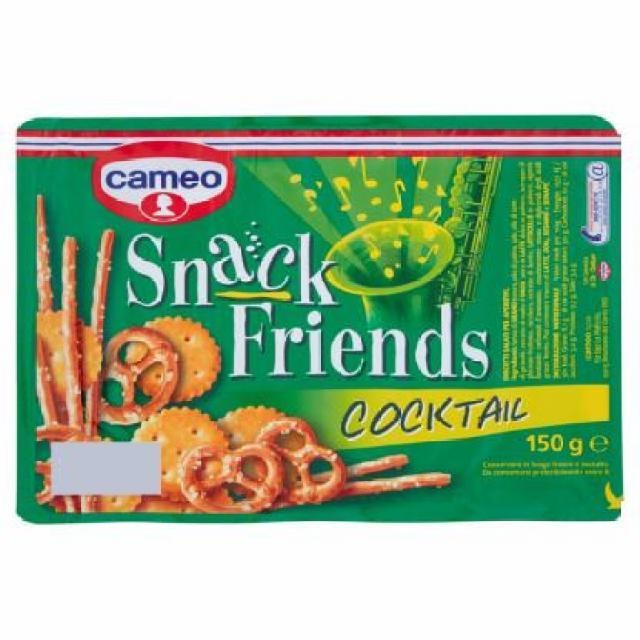Salatini: (9, 112, 628, 530)
